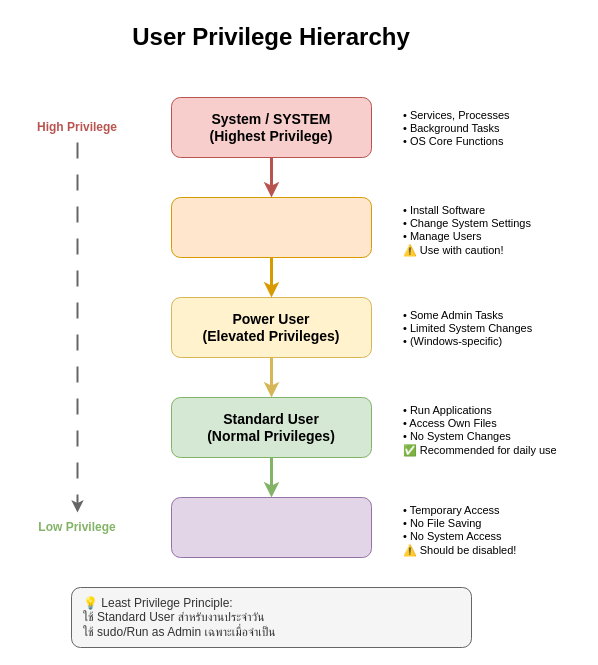
This 598x665 diagram has some shape labels left out. Each missing label, with the centre of its shape:
Administrator / root (Full Control): (x=271, y=227)
Guest (Minimal Privileges): (x=271, y=527)
